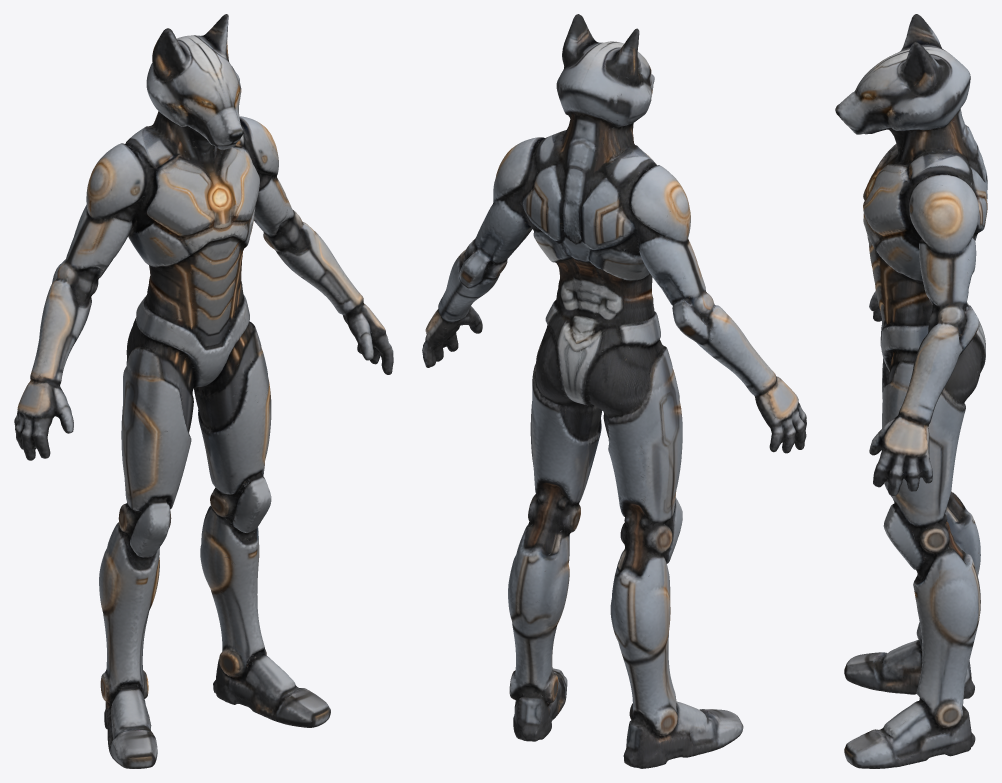
File: Meshy_AI_Steelwolf_Exosuit_0219223344_texture.glb
The picture shows the model from 3 angles, left to right: view 1: azimuth 30°, elevation 25°; view 2: azimuth 150°, elevation 25°; view 3: azimuth 270°, elevation 25°; orthographic projection. The views are drawn at different scales.
Size of the model in its own units: 1.1 by 2 by 0.3989.
Materials: 1 (1 with a texture image).
